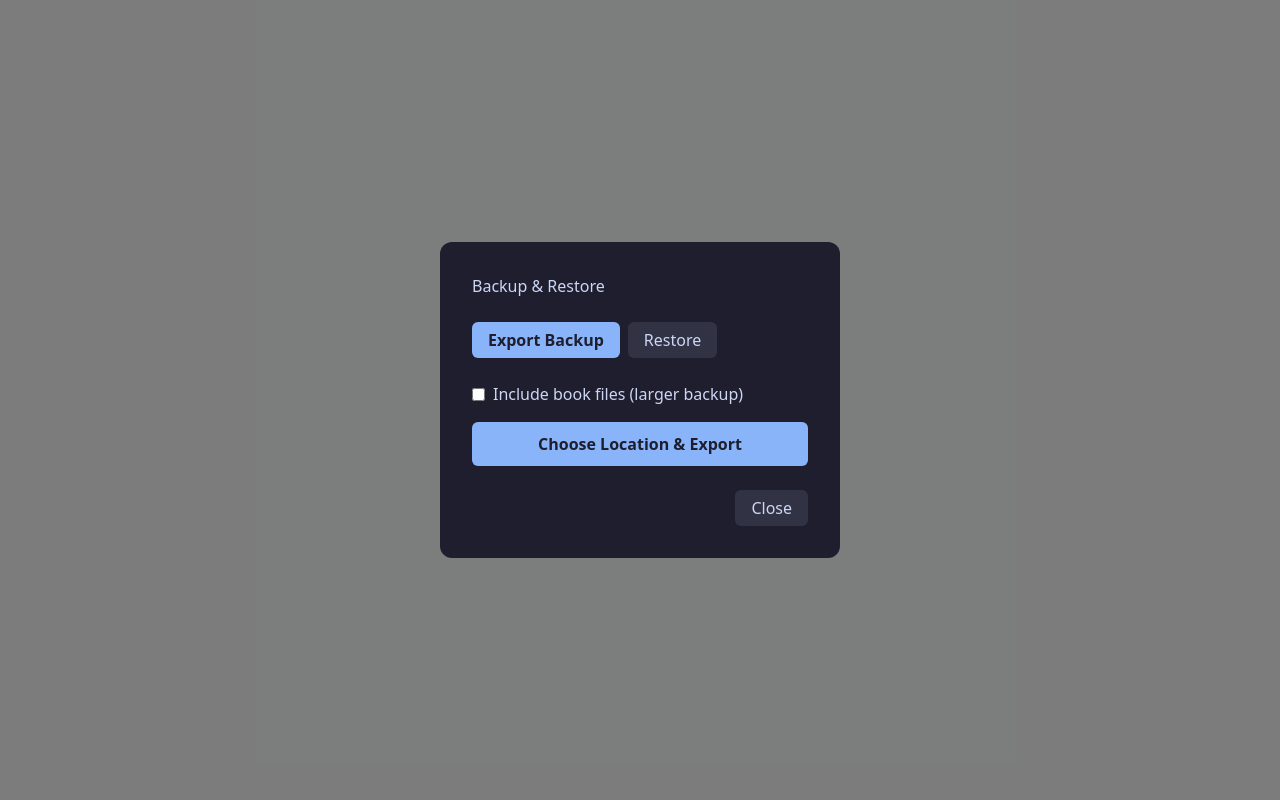
Test case: BackupRestoreDialog › shows books-restored count after restore
Click the button with test id "restore-tab". click: {"x": 672, "y": 340}
box: [628, 322, 717, 358]
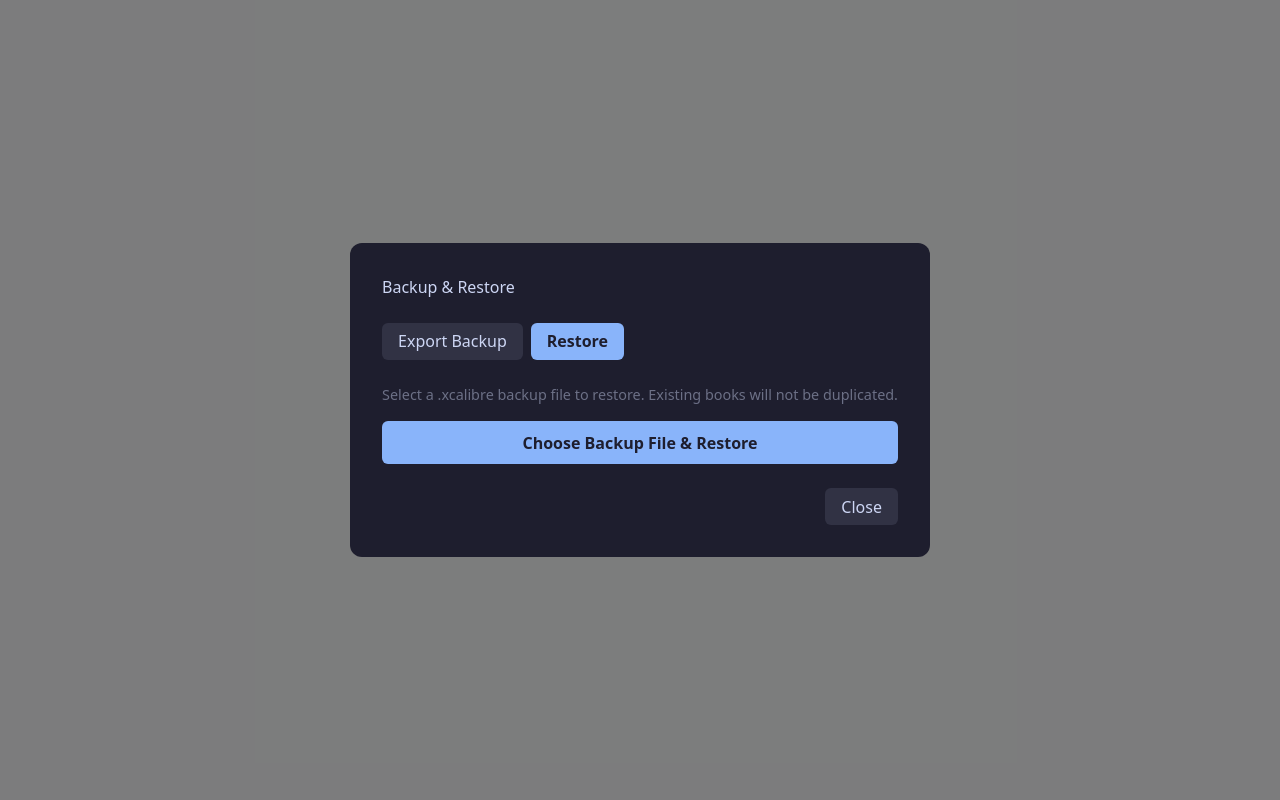
Click the button with test id "restore-backup-btn". click: {"x": 640, "y": 443}
box: [382, 421, 898, 464]
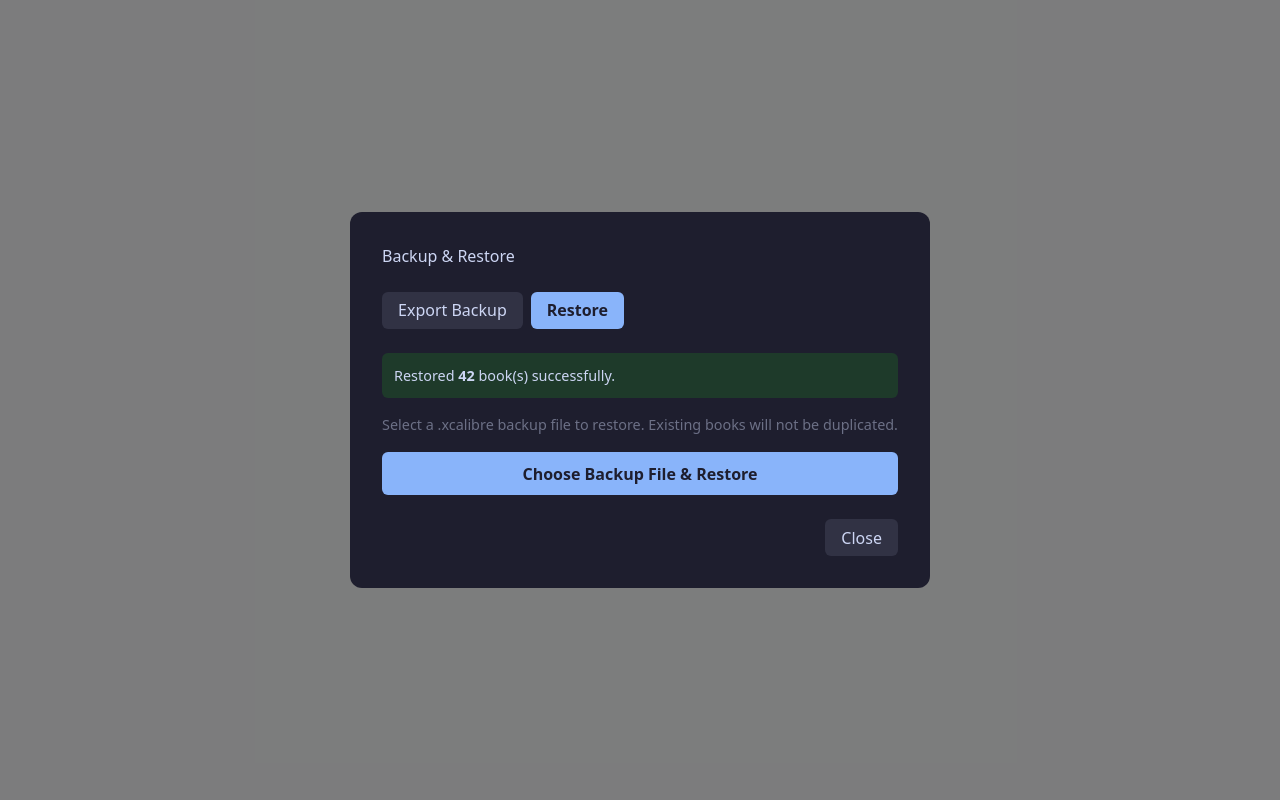
expect the element with test id "restore-success" shows "42": met, box [458, 366, 475, 385]
